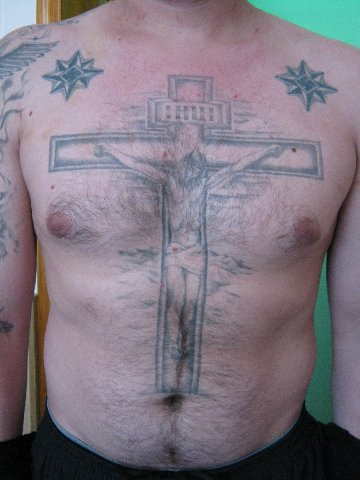tatu4_zvezda: (270, 54, 341, 116), (38, 46, 107, 106)
tatu9_krest: (43, 70, 330, 398)
